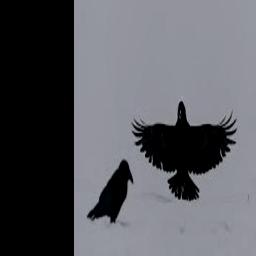Crow: (132, 100, 238, 201), (87, 158, 133, 223)
